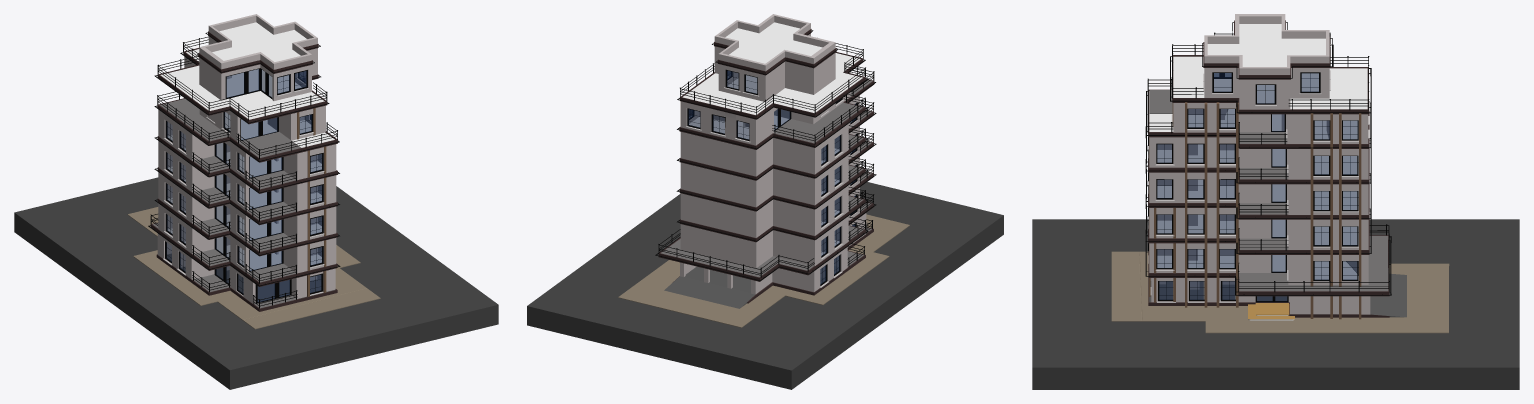
The model's file is complexo_residencial.glb.
3 views of the same model, side by side, from view 1: azimuth 30°, elevation 25°; view 2: azimuth 150°, elevation 25°; view 3: azimuth 270°, elevation 25° (orthographic). The views are drawn at different scales.
Parts seen in each view (by area): view 1: Complexo_Residencial_Original_Agrupado; view 2: Complexo_Residencial_Original_Agrupado; view 3: Complexo_Residencial_Original_Agrupado.
Boxes of the visible parts, <box> form: Complexo_Residencial_Original_Agrupado: <box>14,14,498,389</box>; Complexo_Residencial_Original_Agrupado: <box>527,14,1003,389</box>; Complexo_Residencial_Original_Agrupado: <box>1032,14,1519,389</box>.
Bounding box in the file's own units: 32.8 × 28.11 × 45.57.
